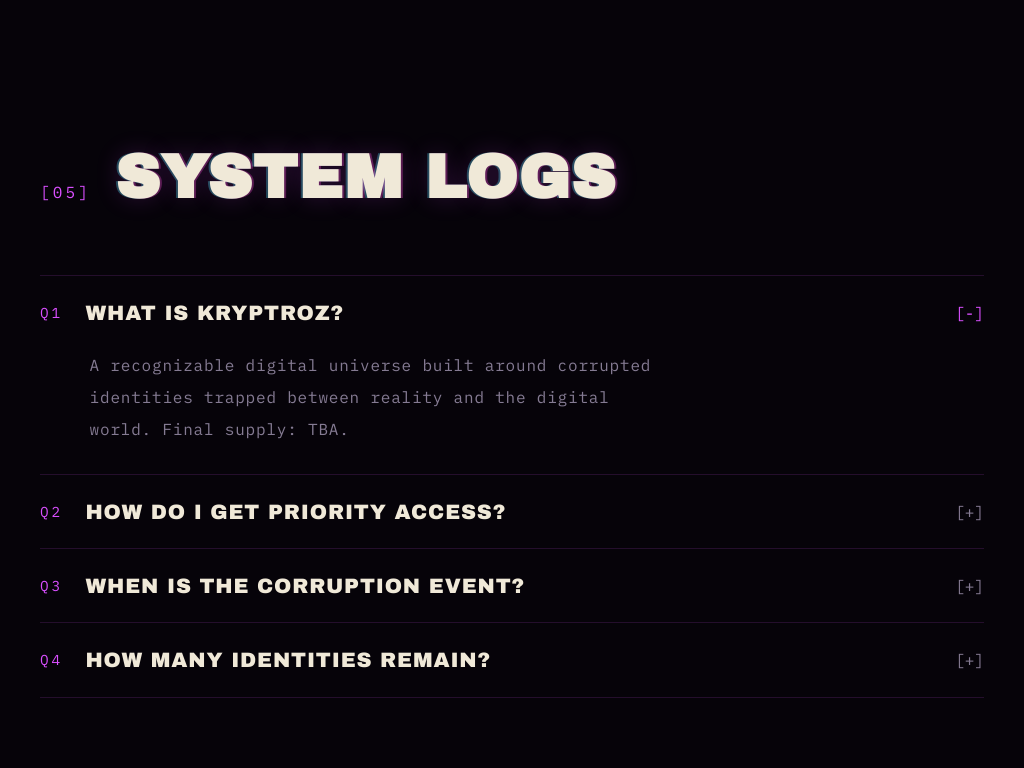
Scenario: opens one FAQ at a time and exposes expanded state
Click the button "Q2 How do I get Priority Access? [+]": (296, 512) [40,475,984,548]
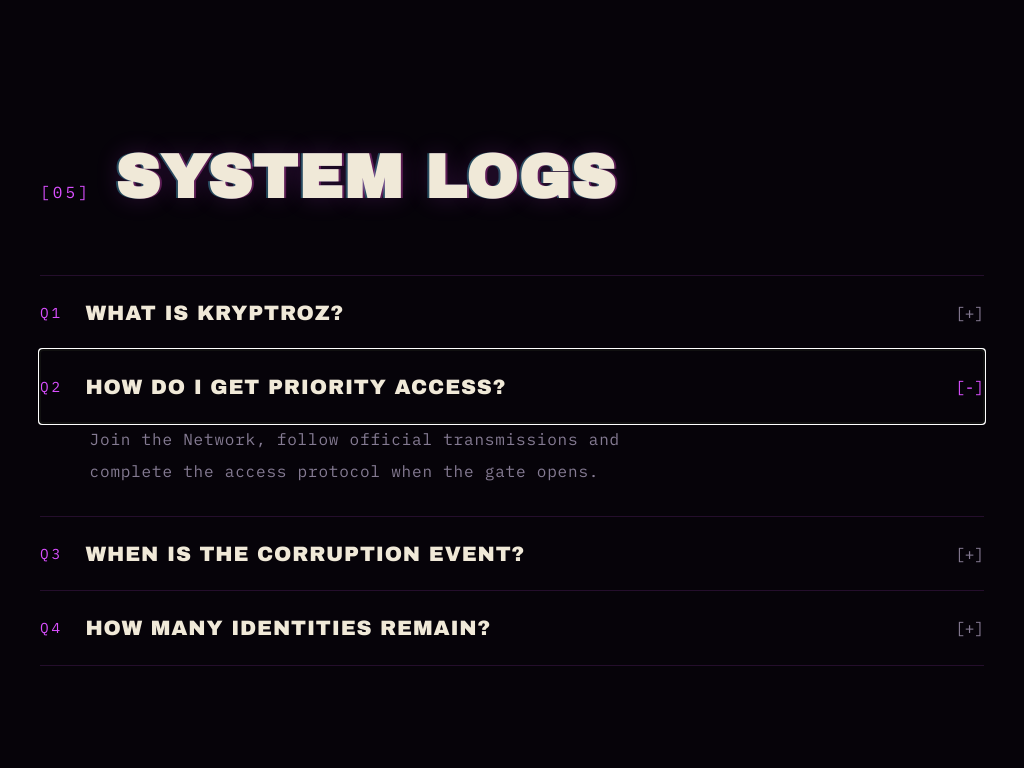
Now the button "Q1 What is KRYPTROZ? [+]" is collapsed, box [40,276,984,349]
Now the button "Q2 How do I get Priority Access? [-]" is expanded, box [40,350,984,423]
Now the text "Join the Network" is shown, box [90,429,620,481]
